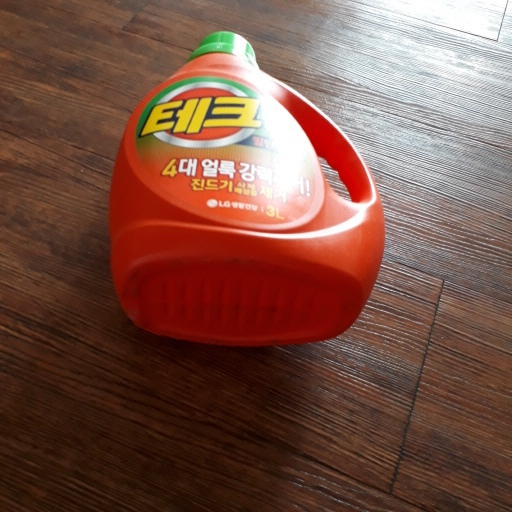Plastic_1: (106, 31, 386, 343)
